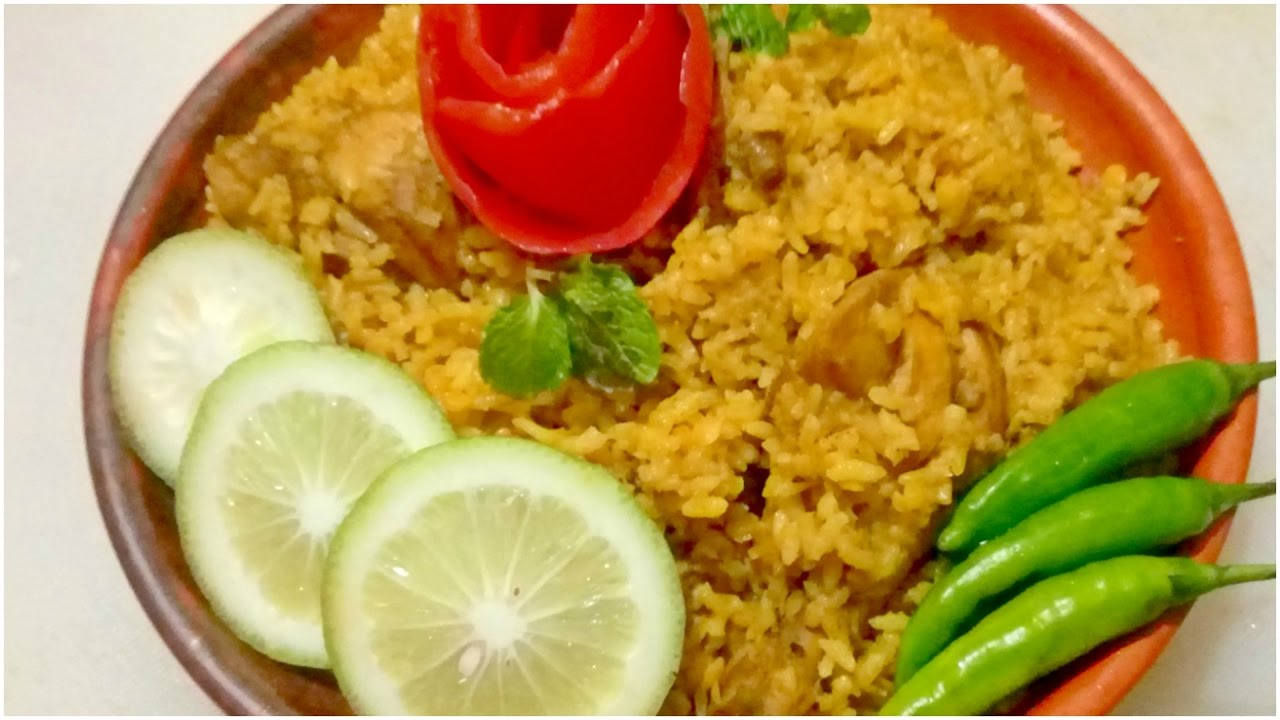khichuri: (276, 7, 1178, 635)
